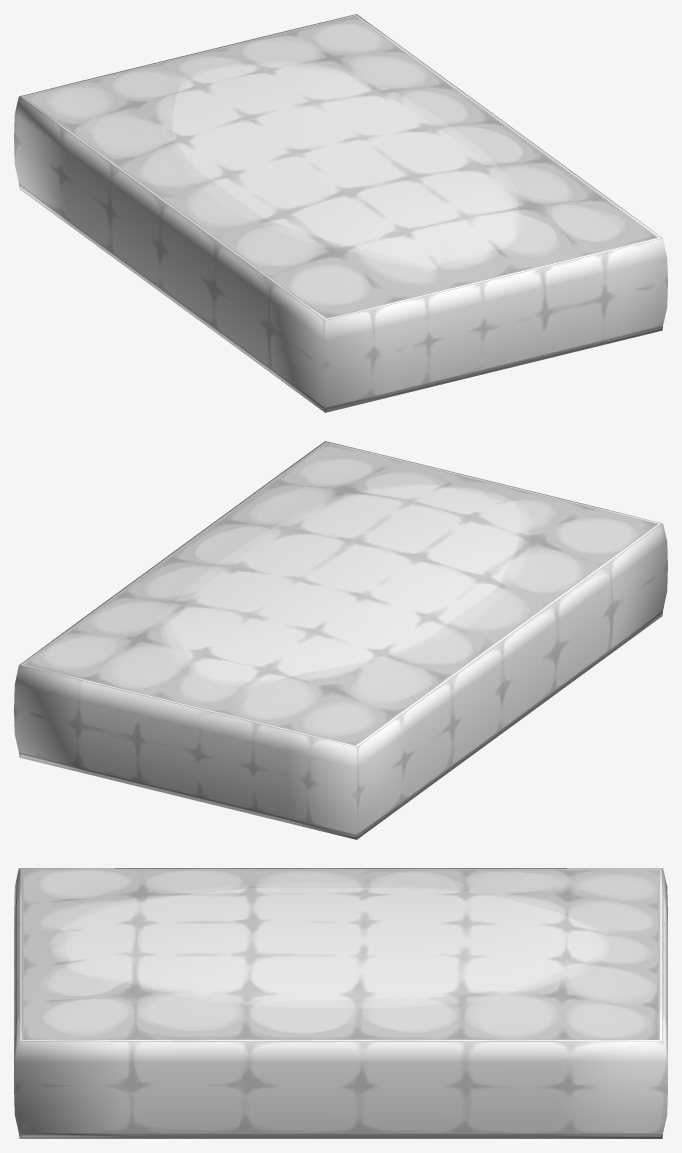
File: Colchon1.fbx
3 views of the same model, one above another, from view 1: azimuth 30°, elevation 25°; view 2: azimuth 150°, elevation 25°; view 3: azimuth 270°, elevation 25° (orthographic). The views are drawn at different scales.
Parts seen in each view (by area): view 1: Cube.002; view 2: Cube.002; view 3: Cube.002.
Part boxes in pixels (<box>): Cube.002: <box>14,14,667,412</box>; Cube.002: <box>14,441,667,839</box>; Cube.002: <box>14,868,667,1138</box>.
Bounding box in the file's own units: 733 × 219 × 1150.
Materials: 1 (1 with a texture image).
